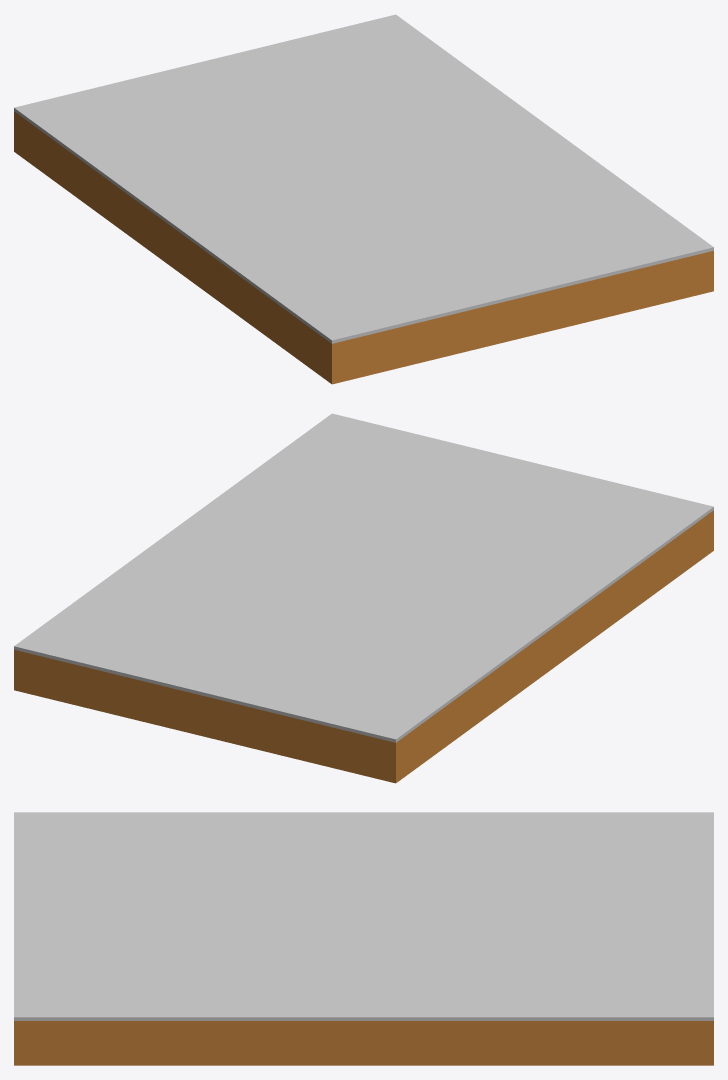
File: PinBallModel.fbx
3 views of the same model, one above another, from view 1: azimuth 30°, elevation 25°; view 2: azimuth 150°, elevation 25°; view 3: azimuth 270°, elevation 25° (orthographic). The views are drawn at different scales.
Parts seen in each view (by area): view 1: Glass, Boad; view 2: Glass, Boad; view 3: Glass, Boad.
Boxes of the visible parts, x1=… form: Glass: x1=14, y1=14, x2=713, y2=343; Boad: x1=14, y1=111, x2=713, y2=384; Glass: x1=14, y1=413, x2=713, y2=742; Boad: x1=14, y1=510, x2=713, y2=783; Glass: x1=14, y1=812, x2=713, y2=1020; Boad: x1=14, y1=1021, x2=713, y2=1065.
Bounding box in the file's own units: 4.67 × 0.5148 × 6.74.
